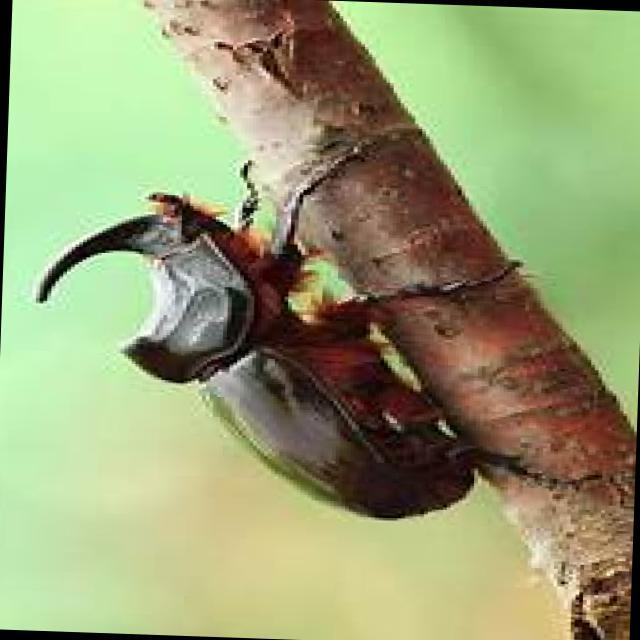Rhino-beetle: (33, 170, 508, 506)
